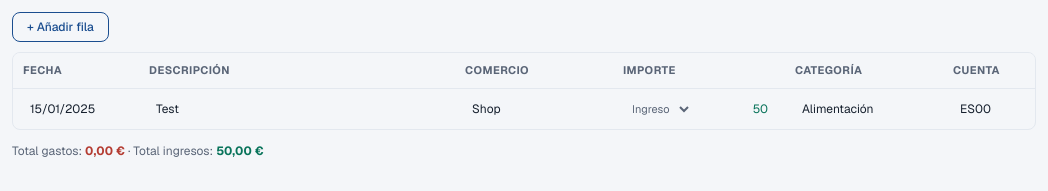
Scenario: restores the stored amount when the field is left empty
The image size is (1048, 191).
Clear the field named "Importe" at [737, 108], box [697, 94, 777, 124]
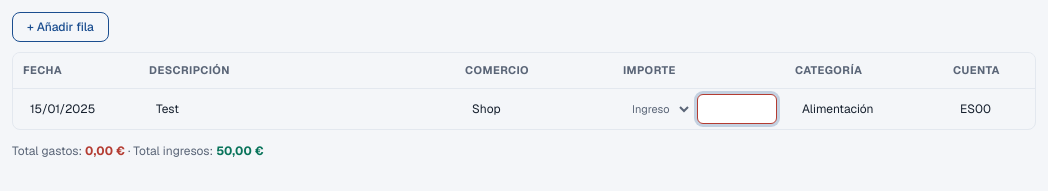
Result: the field named "Importe" is marked as invalid at [697, 94, 777, 124]
Press Tab
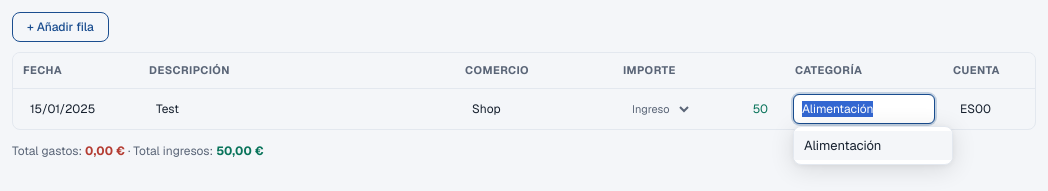
Result: the field named "Importe" holds "50" at [697, 94, 777, 124]
